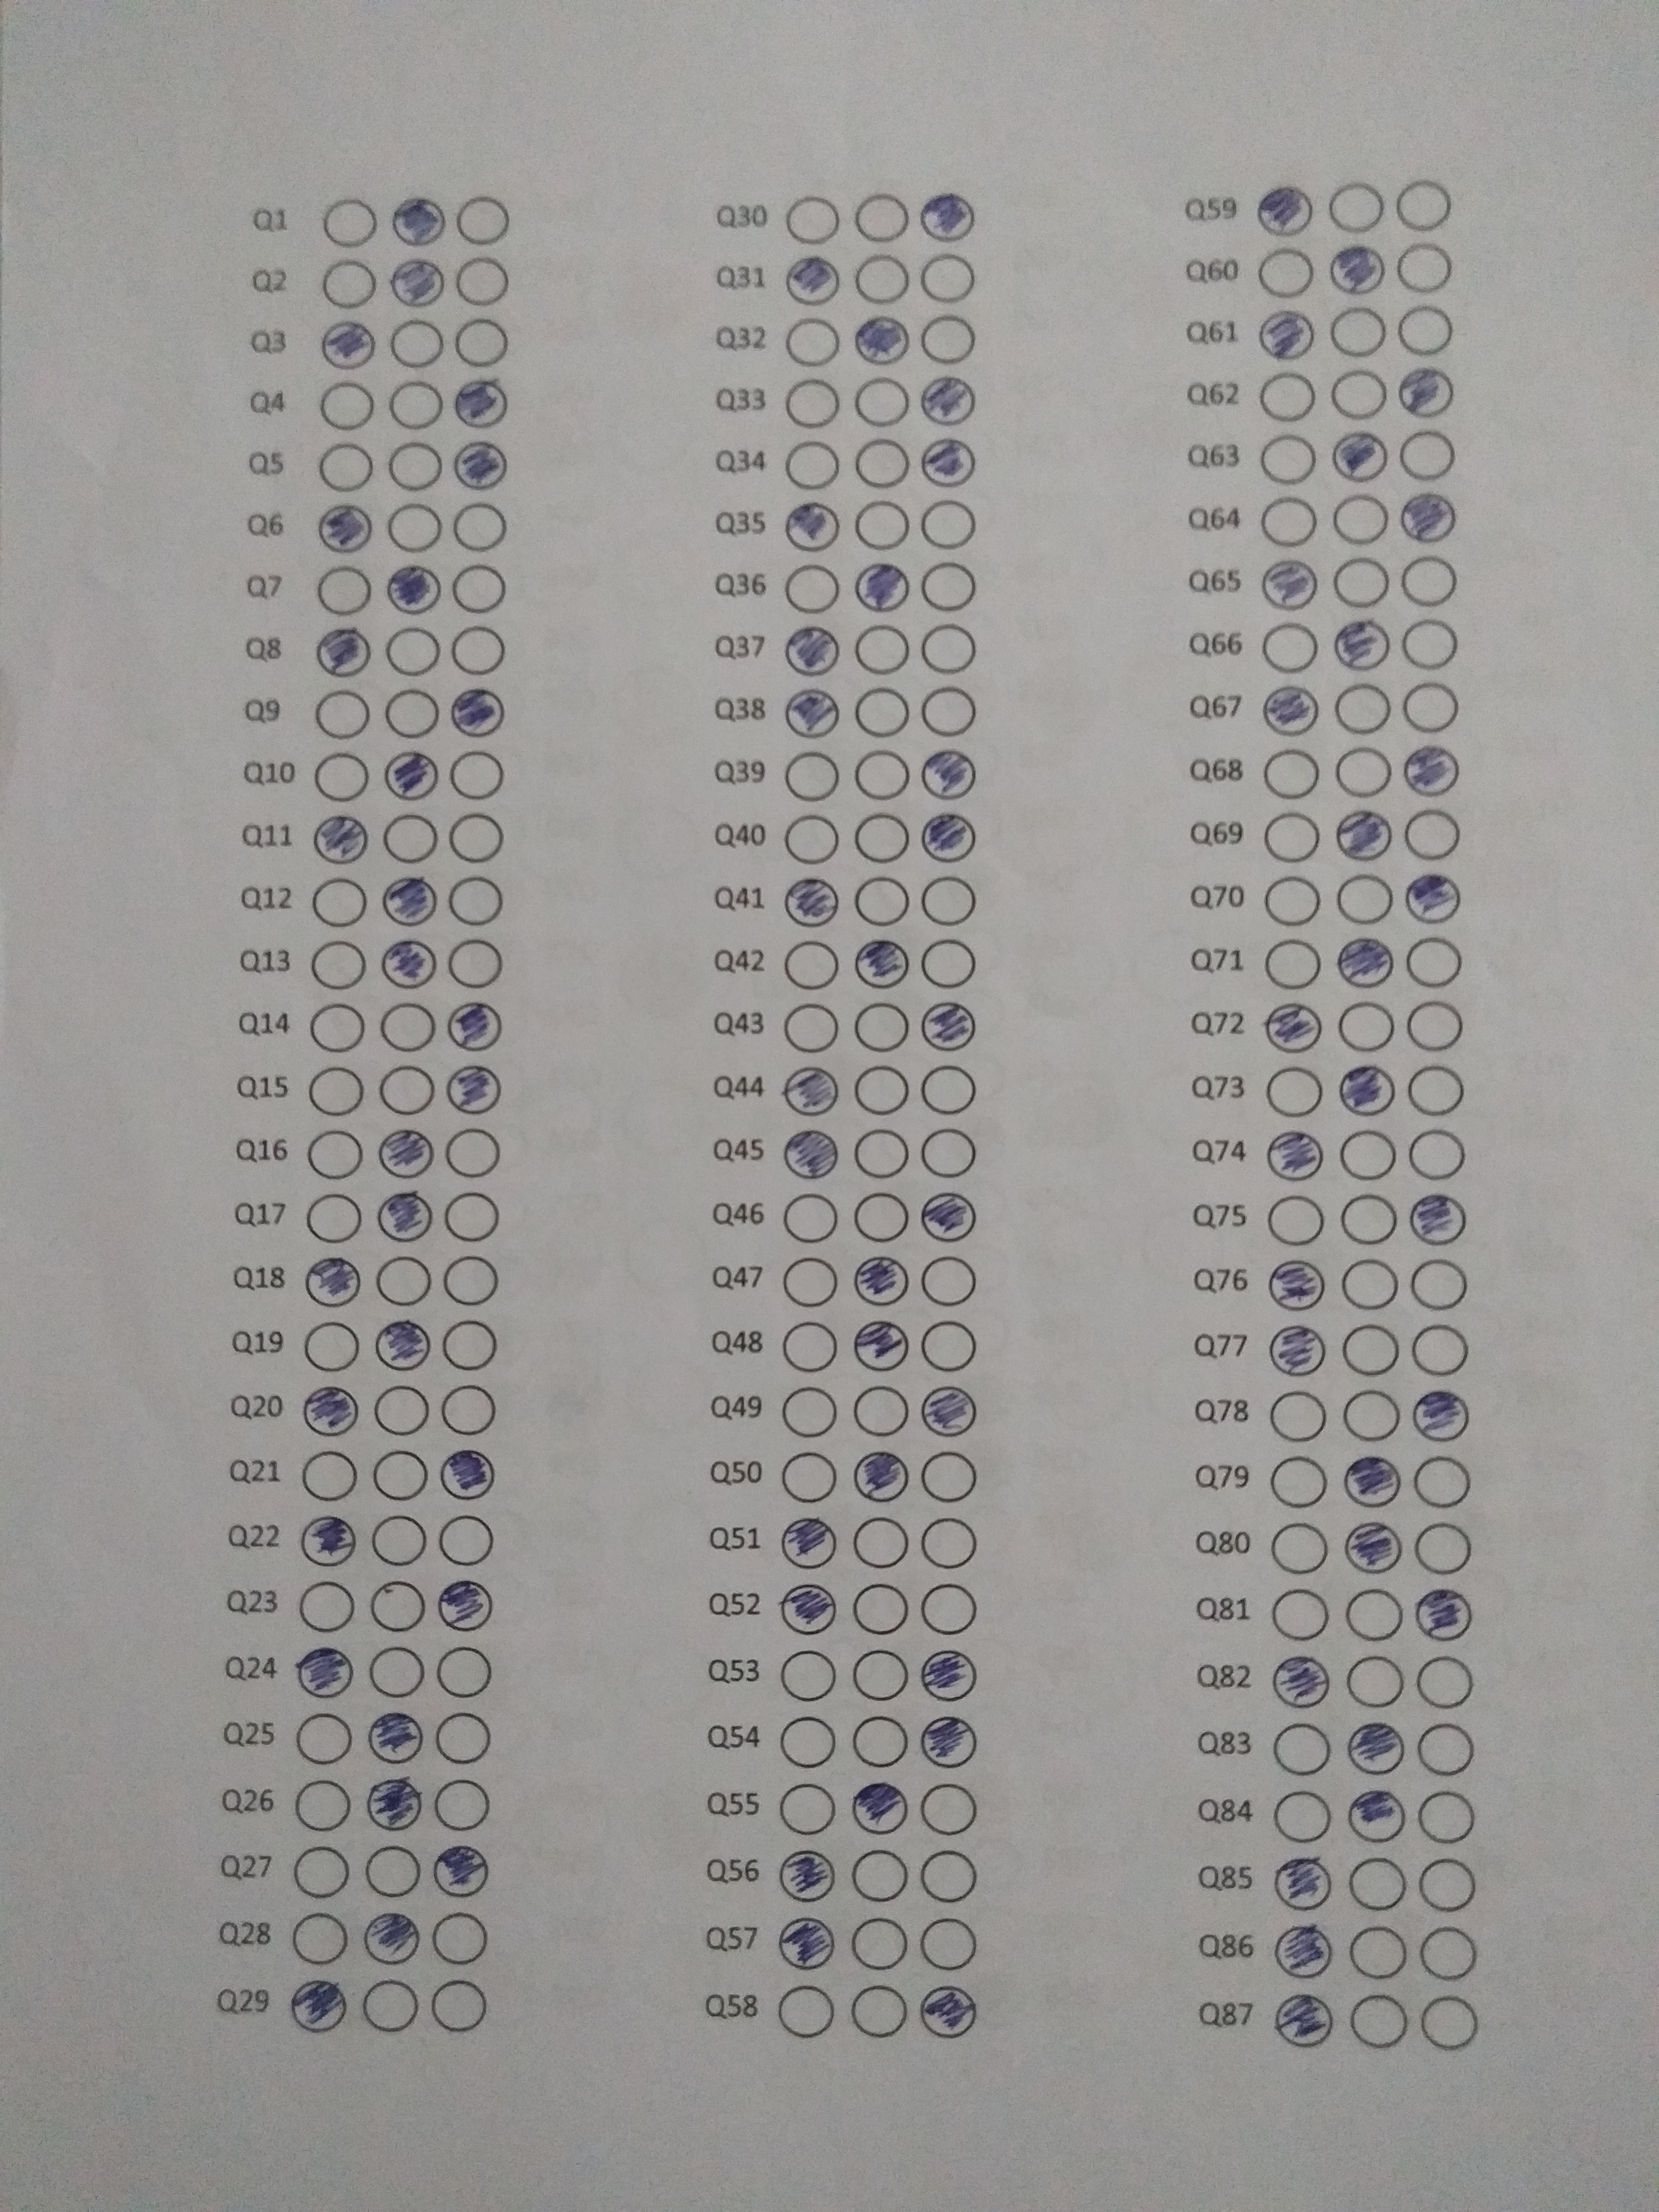not-c: (1270, 1723, 1331, 1777), (1417, 1789, 1476, 1843), (429, 1979, 486, 2033), (298, 1578, 355, 1632), (373, 1385, 430, 1439), (307, 1191, 364, 1245), (362, 1844, 420, 1898), (1333, 554, 1392, 606), (443, 1254, 500, 1306), (441, 1318, 498, 1371), (368, 1646, 425, 1698), (369, 1580, 427, 1632), (437, 1514, 495, 1566), (371, 1514, 429, 1566), (373, 1449, 430, 1501), (300, 1449, 357, 1501), (439, 1383, 497, 1435), (303, 1320, 361, 1372), (432, 1778, 490, 1831), (295, 1778, 352, 1831), (434, 1710, 491, 1763), (295, 1710, 352, 1763), (436, 1646, 493, 1698), (291, 1912, 349, 1965), (361, 1979, 418, 2031), (430, 1912, 488, 1965), (784, 195, 843, 246), (782, 564, 842, 615), (852, 500, 911, 550), (852, 437, 911, 488), (852, 376, 911, 427), (784, 378, 843, 428), (918, 315, 978, 366), (850, 193, 910, 244), (1413, 1522, 1473, 1573), (781, 939, 840, 989), (852, 876, 911, 927), (782, 813, 842, 864), (852, 749, 911, 799), (784, 749, 843, 799), (920, 686, 979, 737), (918, 561, 978, 611), (779, 1386, 838, 1437), (920, 1320, 979, 1371), (779, 1320, 838, 1371), (918, 1064, 978, 1115), (850, 1064, 910, 1115), (777, 1716, 836, 1766), (850, 1649, 910, 1700), (918, 1583, 978, 1634), (850, 1583, 910, 1634), (918, 1517, 978, 1568), (852, 1517, 911, 1568), (779, 1451, 838, 1501), (849, 1986, 908, 2036), (775, 1986, 835, 2036), (917, 1918, 976, 1968), (850, 1850, 910, 1900), (918, 1784, 978, 1834), (779, 1784, 838, 1834), (850, 1716, 910, 1766), (1262, 496, 1321, 547), (1258, 371, 1317, 421), (1396, 303, 1455, 354), (1394, 240, 1453, 291), (1394, 179, 1453, 230), (1326, 181, 1385, 232), (1403, 935, 1462, 986), (1263, 939, 1323, 989), (1262, 876, 1321, 927), (1403, 810, 1462, 860), (1333, 683, 1392, 733), (1399, 620, 1459, 671), (1262, 622, 1321, 672), (1398, 556, 1457, 606), (1408, 1129, 1467, 1179), (1338, 1129, 1398, 1179), (1406, 1064, 1466, 1115), (1263, 1066, 1323, 1116), (1405, 1000, 1464, 1050), (1269, 1392, 1328, 1442), (1340, 1325, 1399, 1376), (1413, 1456, 1473, 1507), (1269, 1456, 1328, 1507), (1349, 1994, 1408, 2045), (1419, 1928, 1478, 1979), (1347, 1926, 1406, 1977), (1349, 1858, 1408, 1909), (1272, 1791, 1331, 1841), (1417, 1656, 1476, 1707), (1345, 1655, 1405, 1705), (1344, 1590, 1403, 1641), (1270, 1522, 1330, 1573), (375, 1254, 430, 1306), (293, 1844, 349, 1897), (852, 254, 910, 305), (920, 937, 978, 988), (920, 624, 978, 674), (920, 1256, 978, 1306), (852, 1191, 910, 1242), (782, 1193, 840, 1244), (782, 1001, 840, 1052), (1258, 434, 1316, 484), (1330, 305, 1387, 355), (1412, 1324, 1469, 1374), (1417, 1860, 1474, 1911), (1417, 1724, 1474, 1775), (918, 498, 978, 547), (782, 439, 842, 488), (918, 254, 978, 303), (920, 876, 979, 925), (852, 813, 911, 862), (852, 688, 911, 737), (852, 625, 911, 674), (781, 1258, 840, 1306), (918, 1129, 978, 1177), (852, 1129, 911, 1177), (852, 1003, 911, 1052), (779, 1651, 838, 1700), (922, 1453, 981, 1501), (850, 1386, 910, 1435), (849, 1919, 908, 1968), (920, 1851, 979, 1900), (1399, 432, 1459, 481), (1330, 369, 1389, 418), (1255, 247, 1314, 296), (1335, 874, 1394, 923), (1263, 812, 1323, 860), (1335, 747, 1394, 796), (1263, 749, 1323, 798), (1403, 683, 1462, 732), (1333, 495, 1392, 543), (1267, 1195, 1326, 1244), (1337, 1001, 1396, 1050), (1410, 1259, 1469, 1308), (1342, 1392, 1401, 1440), (1270, 1590, 1330, 1639), (450, 876, 505, 927), (444, 1191, 500, 1242), (782, 317, 840, 366), (1340, 1261, 1398, 1310), (1422, 2000, 1480, 2048), (1342, 1195, 1399, 1244), (324, 197, 378, 247), (457, 195, 511, 246), (455, 317, 509, 368), (321, 380, 375, 430), (451, 502, 505, 552), (319, 566, 373, 617), (385, 688, 439, 738), (315, 690, 369, 740), (314, 752, 368, 803), (450, 749, 504, 799), (312, 941, 366, 991), (387, 503, 443, 552), (455, 256, 509, 305), (322, 258, 376, 307), (390, 319, 444, 368), (389, 378, 443, 427), (319, 444, 373, 493), (389, 442, 443, 491), (451, 564, 505, 613), (387, 627, 441, 676), (451, 625, 505, 674), (450, 812, 504, 860), (383, 813, 437, 862), (314, 878, 368, 927), (448, 939, 502, 988), (380, 1003, 434, 1052), (312, 1003, 366, 1052), (310, 1066, 364, 1115), (380, 1066, 434, 1115), (307, 1130, 361, 1179), (446, 1129, 500, 1177)
taken-c: (1272, 1991, 1337, 2050), (288, 1977, 349, 2036), (920, 1710, 979, 1771), (1272, 1923, 1333, 1982), (1340, 1453, 1403, 1510), (1413, 1585, 1476, 1642), (849, 1778, 910, 1836), (1398, 489, 1459, 547), (1331, 618, 1392, 676), (1255, 308, 1317, 364), (1408, 1191, 1471, 1247), (1412, 1388, 1474, 1444), (1342, 1521, 1406, 1575), (777, 1848, 836, 1905), (852, 1447, 911, 1505), (1403, 744, 1462, 801), (314, 624, 375, 679), (295, 1644, 355, 1700), (918, 1984, 979, 2040), (1255, 183, 1316, 239), (1333, 806, 1394, 862), (1263, 998, 1324, 1054), (1347, 1789, 1408, 1844), (1272, 1857, 1333, 1912), (1260, 683, 1321, 738), (437, 1576, 495, 1634), (1262, 556, 1319, 613), (364, 1775, 423, 1831), (782, 1064, 842, 1120), (1405, 871, 1464, 927), (775, 1916, 836, 1970), (777, 1581, 838, 1635), (782, 686, 843, 740), (782, 624, 843, 678), (852, 559, 913, 613), (1399, 554, 1460, 608), (1337, 1062, 1398, 1116), (1265, 1129, 1326, 1183), (1267, 1258, 1328, 1312), (1267, 1324, 1328, 1378), (920, 1383, 978, 1439), (854, 935, 911, 991), (918, 188, 976, 244), (1272, 1655, 1330, 1710), (1349, 1721, 1406, 1777), (315, 502, 375, 556), (448, 686, 507, 740), (310, 812, 369, 866), (303, 1256, 362, 1310), (298, 1514, 357, 1568), (920, 1649, 979, 1703), (782, 1127, 842, 1181), (920, 812, 979, 866), (918, 374, 978, 428), (1396, 366, 1455, 420), (368, 1709, 423, 1764), (432, 1843, 488, 1898), (321, 317, 378, 371), (387, 563, 444, 617), (383, 749, 441, 803), (382, 874, 439, 928), (376, 1191, 434, 1245), (375, 1318, 432, 1372), (439, 1447, 497, 1501), (362, 1911, 420, 1965), (852, 1318, 910, 1372), (920, 1190, 978, 1244), (784, 874, 842, 928), (920, 747, 978, 801), (920, 435, 978, 489), (1330, 242, 1387, 296), (301, 1385, 361, 1437), (852, 314, 911, 366), (784, 254, 843, 307), (1331, 430, 1391, 482), (1337, 935, 1396, 988), (443, 1064, 504, 1115), (392, 195, 448, 249), (448, 998, 504, 1052), (389, 256, 446, 308), (451, 439, 509, 491), (378, 1127, 436, 1179), (854, 1256, 911, 1308), (920, 1000, 978, 1052), (784, 502, 842, 554), (380, 939, 439, 989), (779, 1519, 838, 1569), (453, 380, 509, 430)
